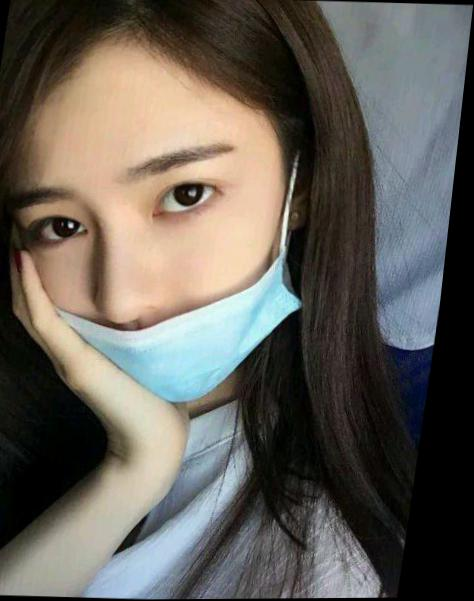WRONG: (9, 123, 318, 408)
